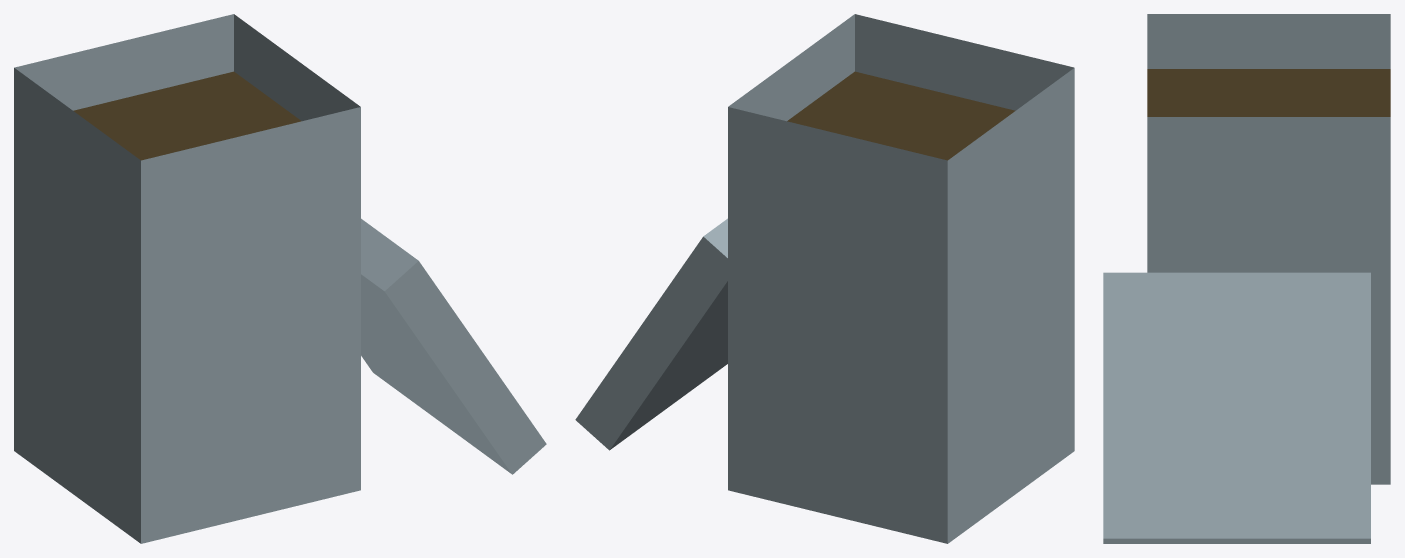
Rendered from trashcan1.glb.
3 renders of one model, left to right at view 1: azimuth 30°, elevation 25°; view 2: azimuth 150°, elevation 25°; view 3: azimuth 270°, elevation 25°, orthographic. The views are drawn at different scales.
Visible parts, largest first — view 1: trashcan, lid; view 2: trashcan, lid; view 3: lid, trashcan.
Boxes of the visible parts, box(x1,y1,x2,y2) form: trashcan: box(14, 14, 360, 543); lid: box(361, 218, 546, 474); trashcan: box(728, 14, 1074, 543); lid: box(575, 218, 727, 450); lid: box(1103, 272, 1370, 543); trashcan: box(1147, 14, 1390, 484).
Bounding box in the file's own units: 1.04 × 1 × 0.7085.
Materials: 2 (1 with a texture image).
